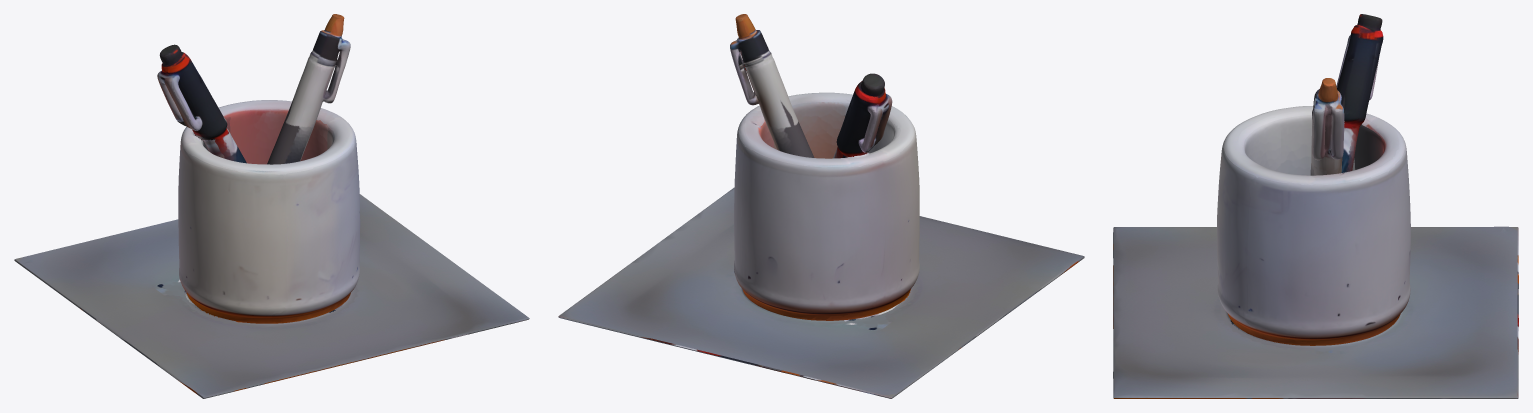
File: PenHolder.glb
3 views of the same model, side by side, from view 1: azimuth 30°, elevation 25°; view 2: azimuth 150°, elevation 25°; view 3: azimuth 270°, elevation 25° (orthographic). The views are drawn at different scales.
Parts seen in each view (by area): view 1: PenHolder; view 2: PenHolder; view 3: PenHolder.
Part boxes in pixels (x1=…): PenHolder: x1=14, y1=14, x2=529, y2=398; PenHolder: x1=558, y1=14, x2=1084, y2=398; PenHolder: x1=1113, y1=14, x2=1518, y2=398.
Bounding box in the file's own units: 1.99 × 1.47 × 1.99.
Materials: 1 (1 with a texture image).
